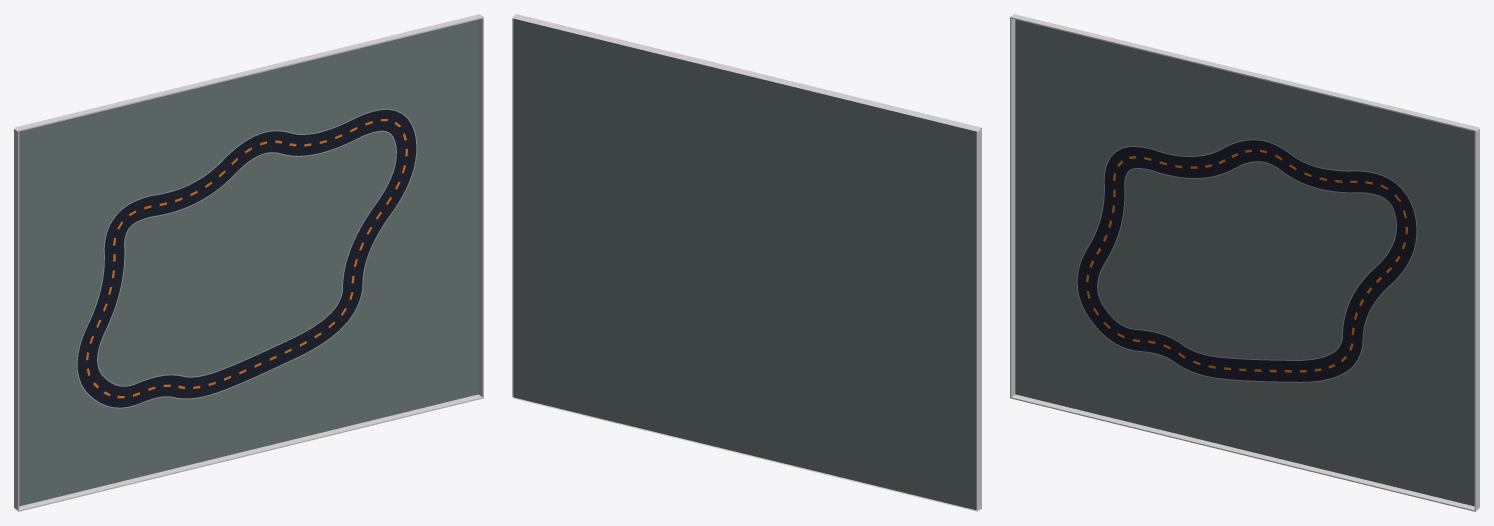
File: track.obj
3 views of the same model, side by side, from view 1: azimuth 30°, elevation 25°; view 2: azimuth 150°, elevation 25°; view 3: azimuth 330°, elevation 25° (orthographic).
Size of the model in its own units: 19.58 by 15.33 by 0.3.
5 materials, 5 textured.
